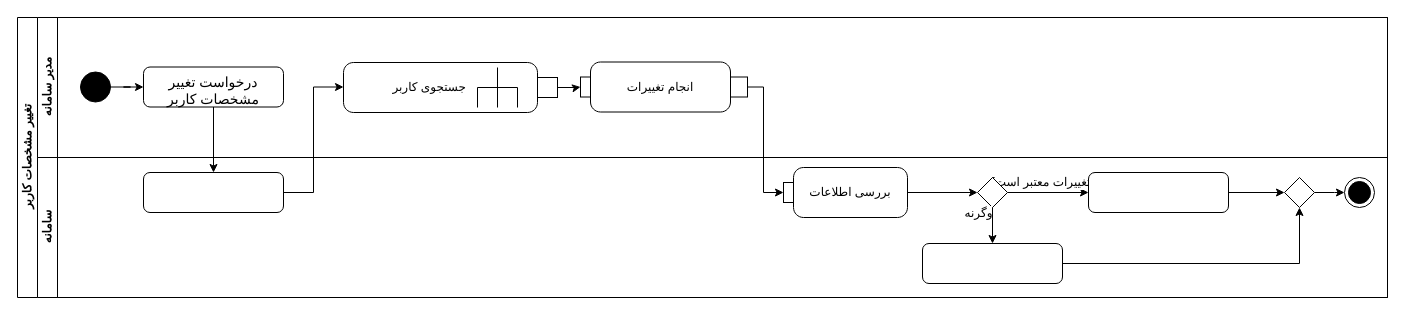
This 1405x315 diagram has some shape labels left out. The centre of each missing label's shape, as x and y in pixels:
"اعمال تغییرات" belongs at (1158,192).
"نمایش علت نامعتبر بودن تغییرات" belongs at (992,263).
"نمایش لیست کاربران" belongs at (213,192).
